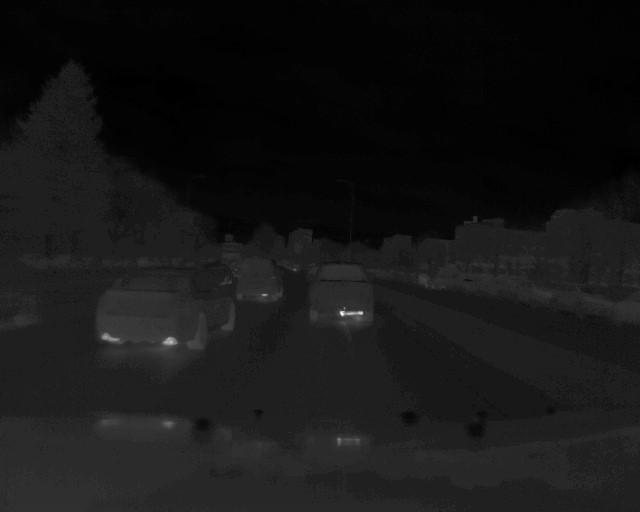car: (93, 264, 243, 350), (307, 258, 376, 323), (236, 254, 288, 303)
